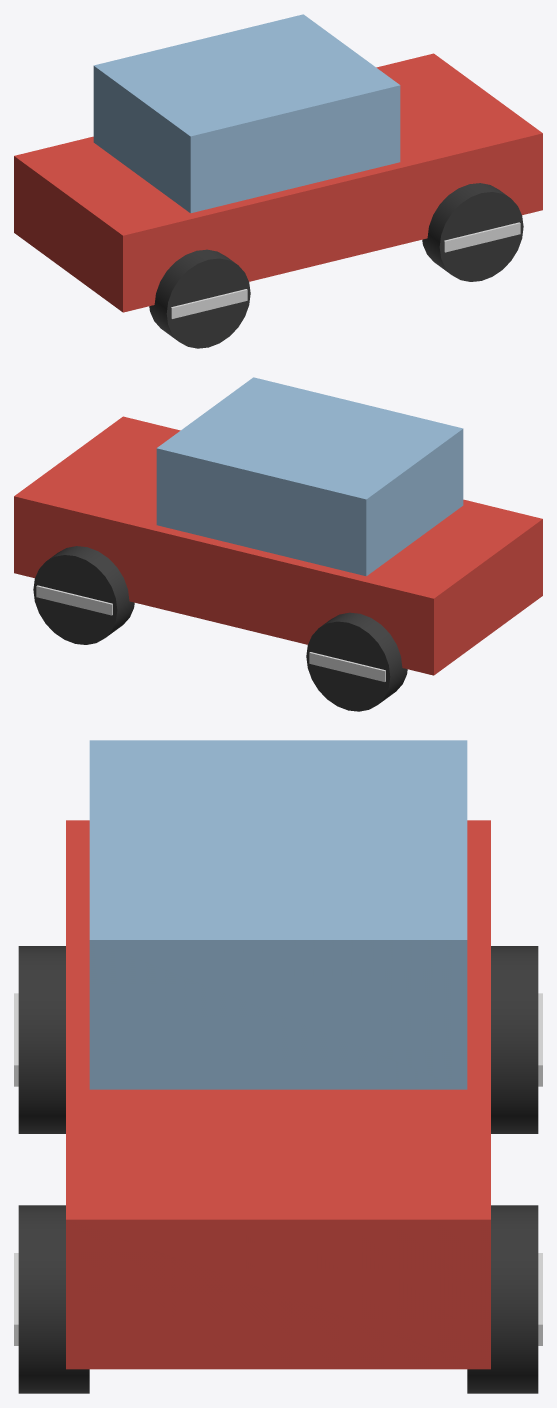
The model's file is car.gltf.
3 views of the same model, one above another, from view 1: azimuth 30°, elevation 25°; view 2: azimuth 150°, elevation 25°; view 3: azimuth 270°, elevation 25° (orthographic). The views are drawn at different scales.
Parts seen in each view (by area): view 1: Body, Cabin, WheelRearRight, WheelFrontRight; view 2: Body, Cabin, WheelRearLeft, WheelFrontLeft; view 3: Cabin, Body, WheelFrontLeft, WheelFrontRight, WheelRearLeft, WheelRearRight.
Boxes of the visible parts, <box> form: Body: <box>14,53,542,312</box>; Cabin: <box>93,14,400,213</box>; WheelRearRight: <box>149,249,250,348</box>; WheelFrontRight: <box>422,183,523,281</box>; Body: <box>14,416,542,675</box>; Cabin: <box>156,377,463,576</box>; WheelRearLeft: <box>306,612,407,711</box>; WheelFrontLeft: <box>33,546,134,644</box>; Cabin: <box>89,740,467,1089</box>; Body: <box>66,820,490,1369</box>; WheelFrontLeft: <box>467,1205,542,1393</box>; WheelFrontRight: <box>14,1205,89,1393</box>; WheelRearLeft: <box>491,946,542,1133</box>; WheelRearRight: <box>14,946,65,1133</box>.
Bounding box in the file's own units: 4 × 1.8 × 2.24.
